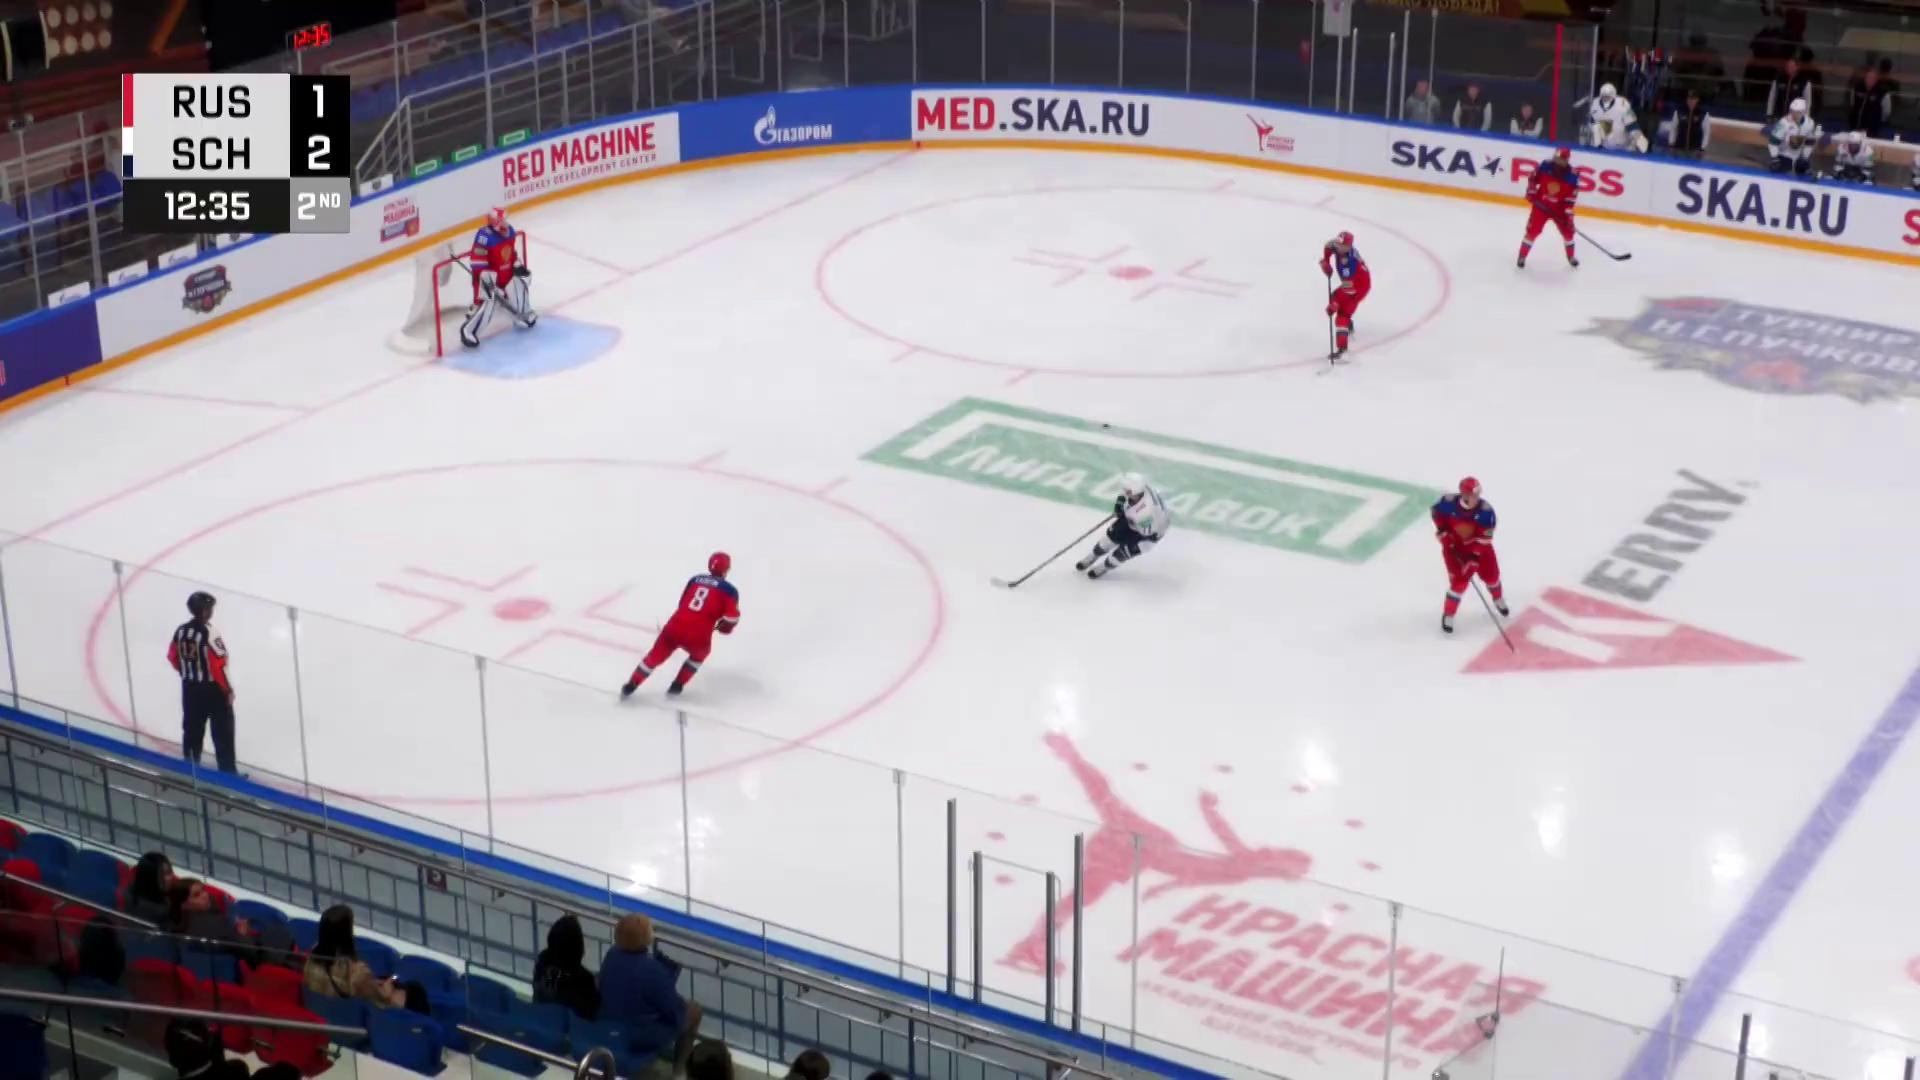ball: (1101, 422, 1113, 430)
